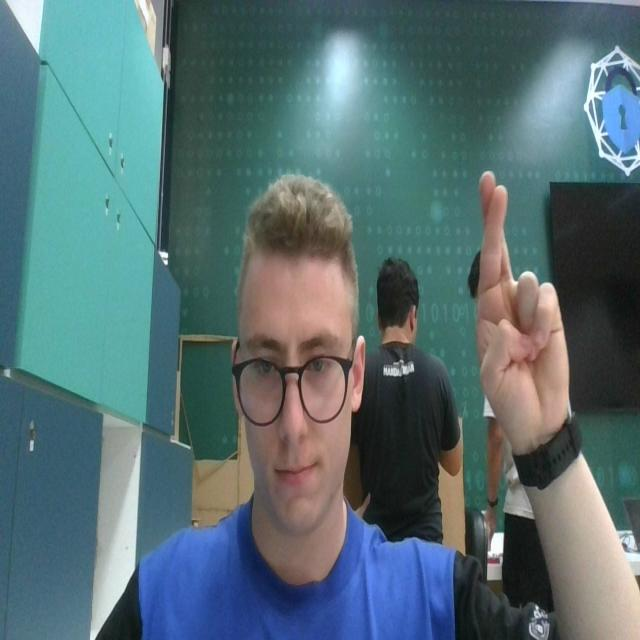R: (474, 167, 576, 446)
